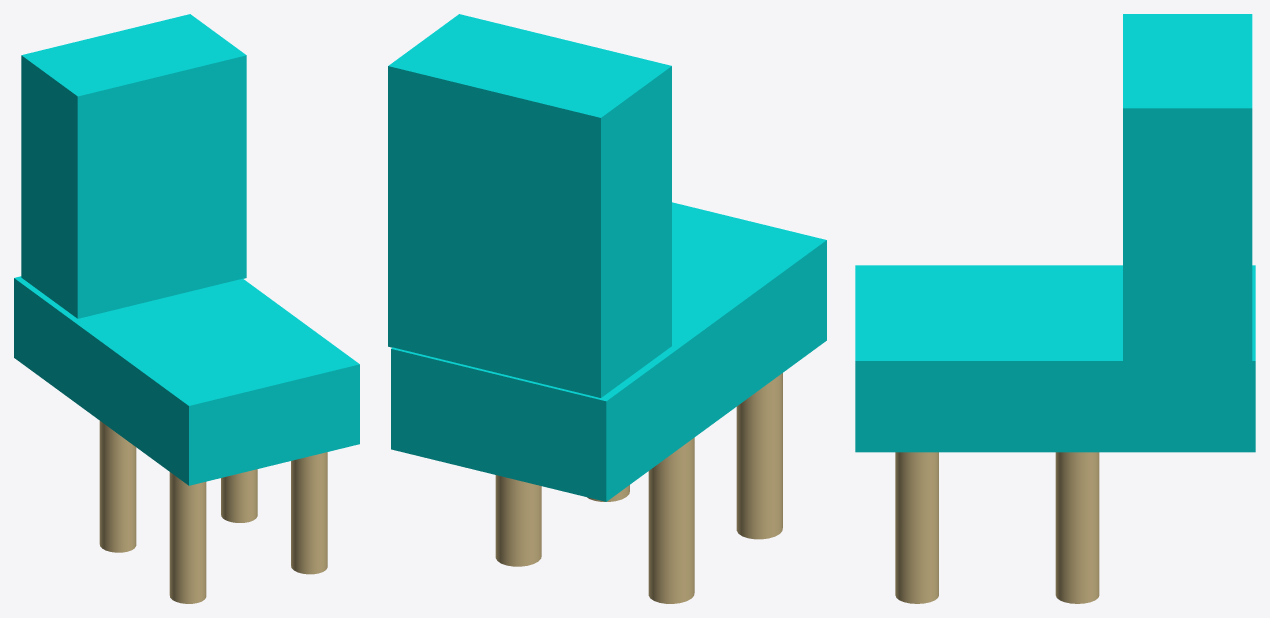
The picture shows the model from 3 angles, left to right: view 1: azimuth 30°, elevation 25°; view 2: azimuth 150°, elevation 25°; view 3: azimuth 270°, elevation 25°; orthographic projection. The views are drawn at different scales.
Visible parts, largest first — view 1: pCube201; view 2: pCube201; view 3: pCube201.
Boxes of the visible parts, x1,y1,x2,y2 form: pCube201: [14, 14, 359, 603]; pCube201: [388, 14, 826, 603]; pCube201: [855, 14, 1255, 603].
Size of the model in its own units: 11.52 by 27.64 by 19.98.
